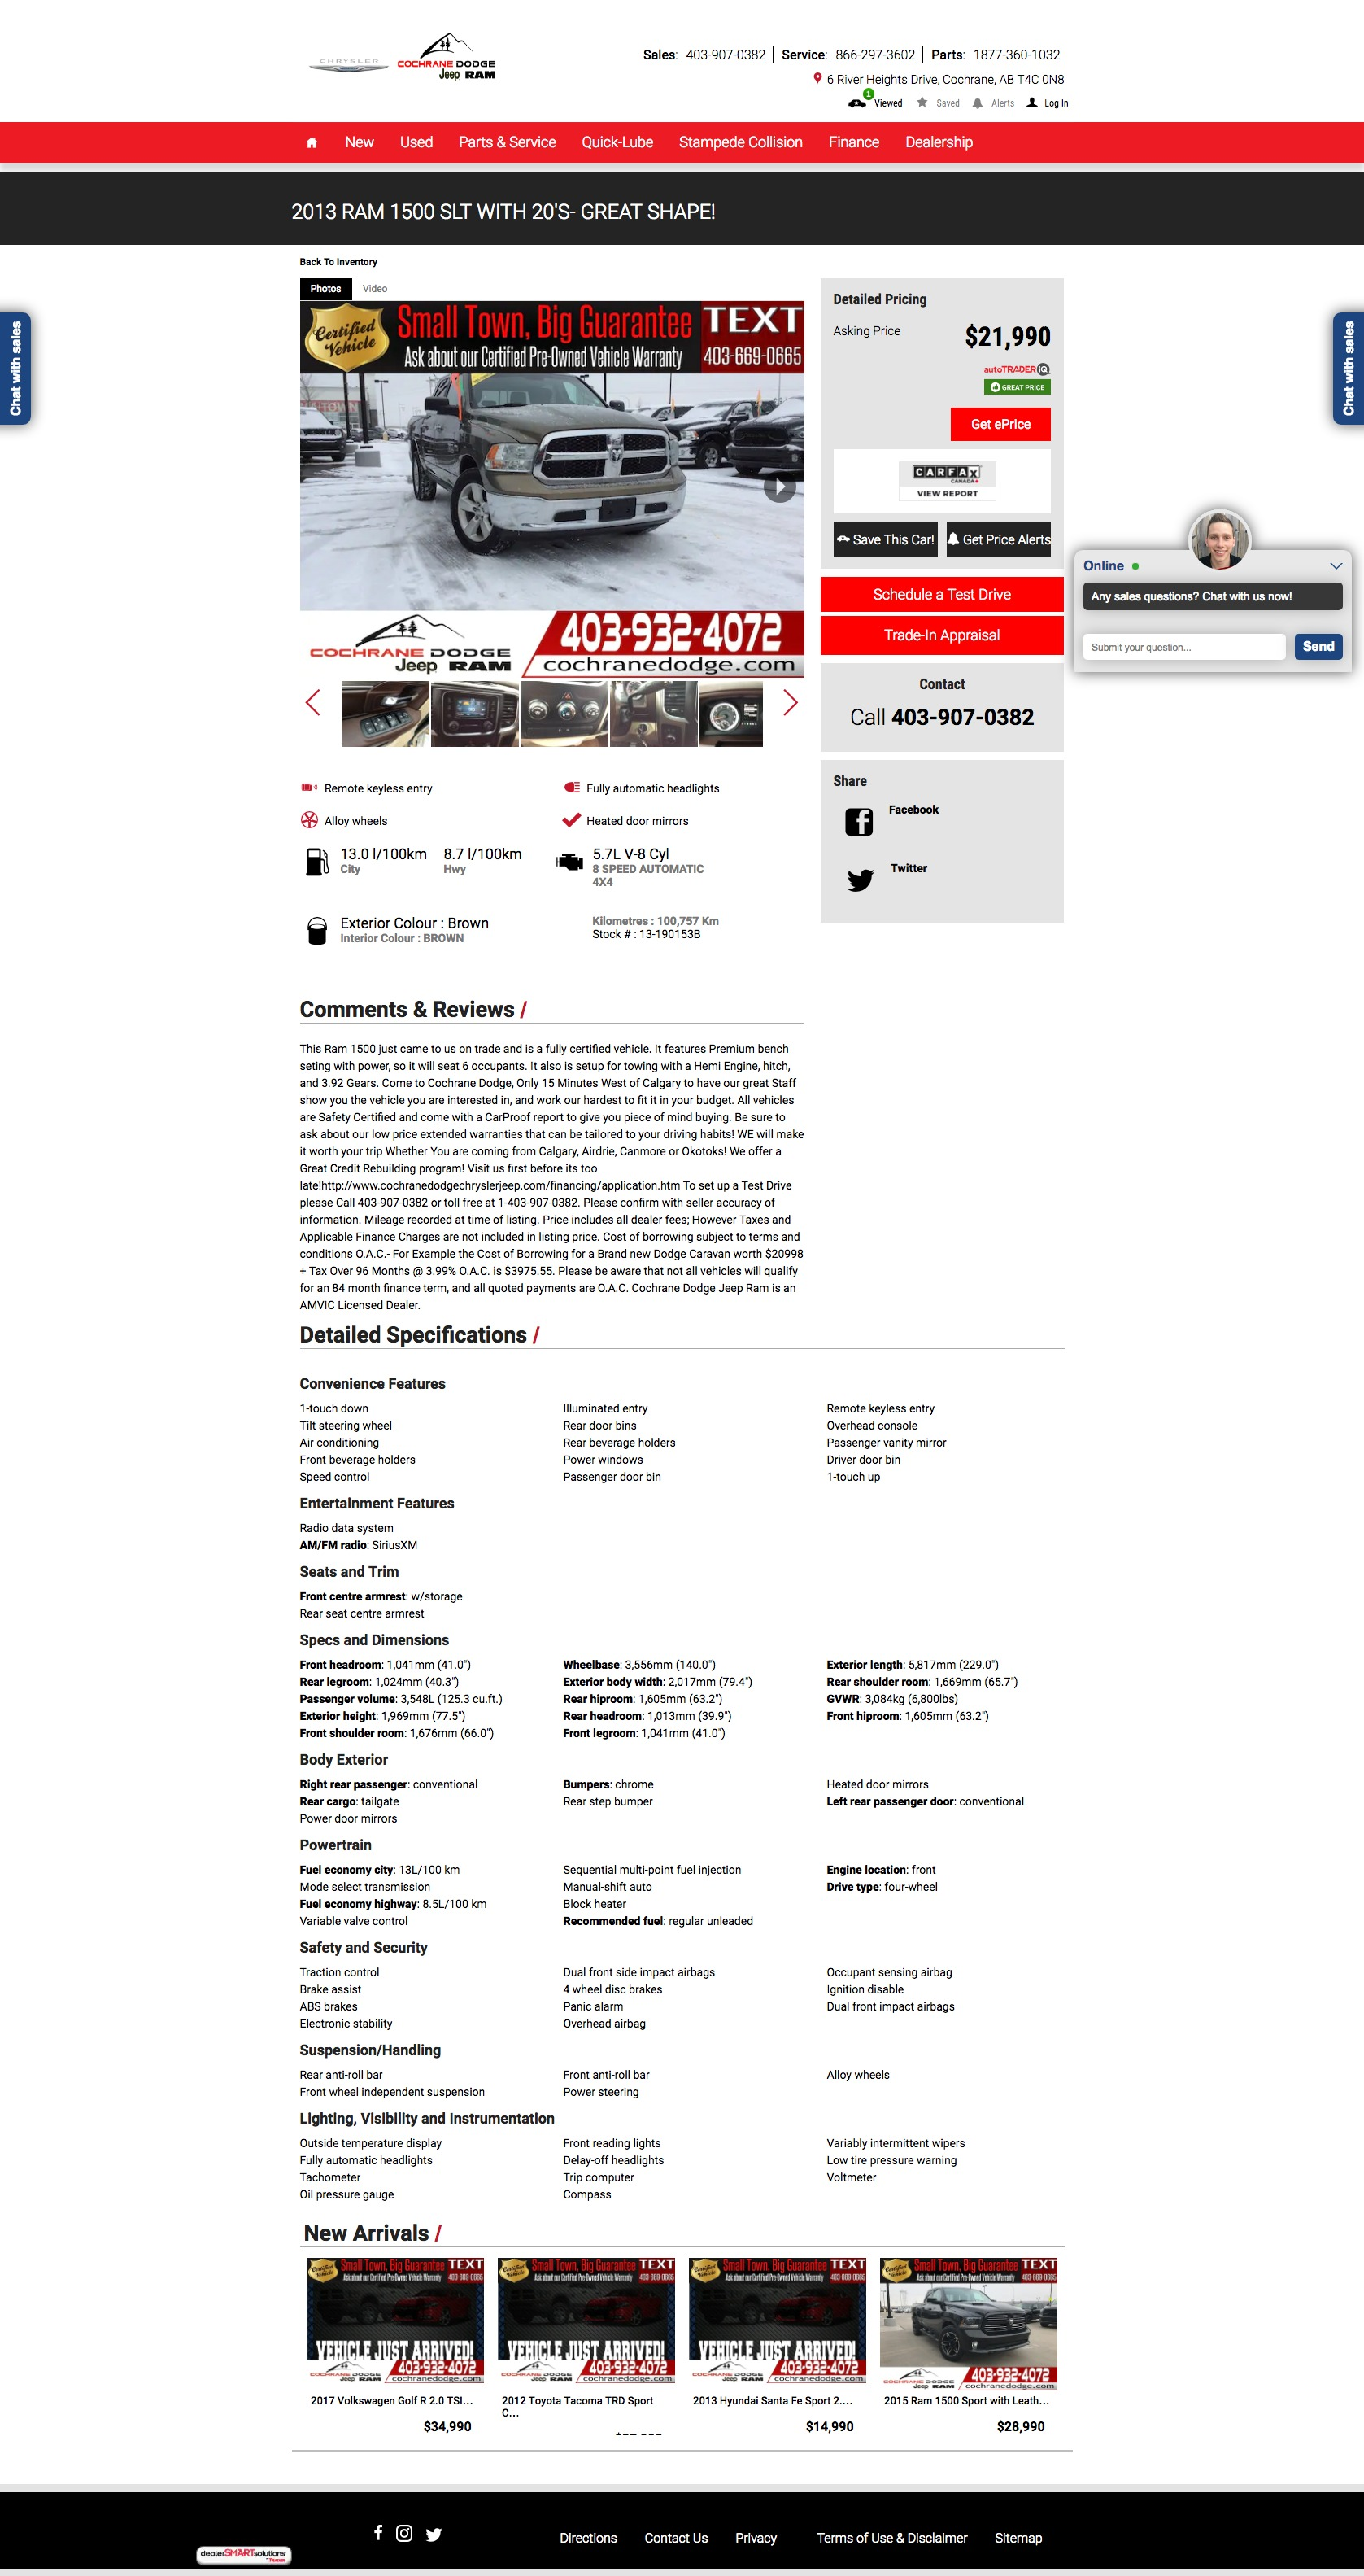car: (782, 688, 800, 717)
